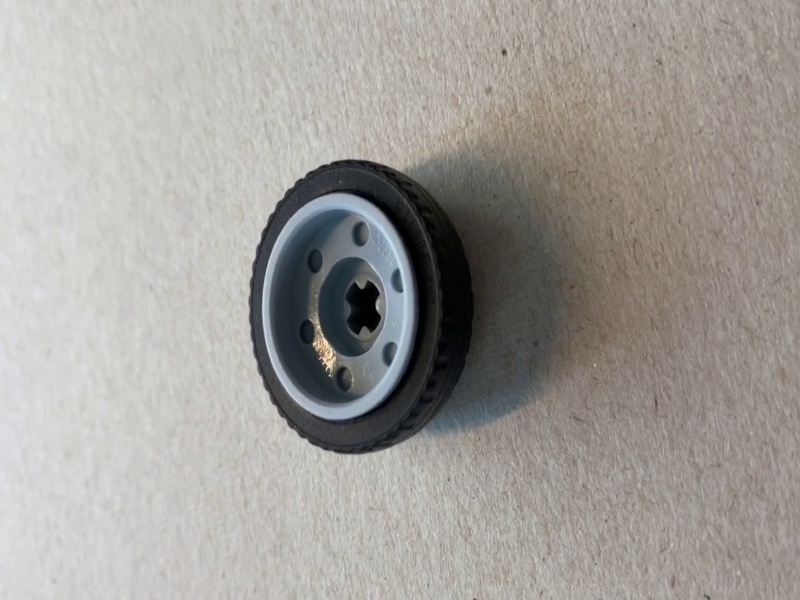tire: (248, 158, 476, 451)
